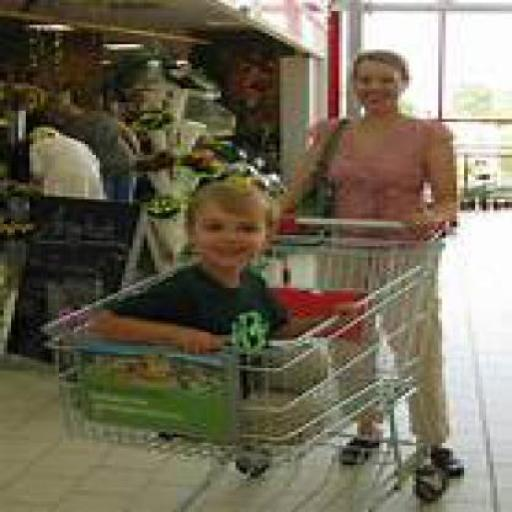shopping_cart: (47, 218, 454, 512)
